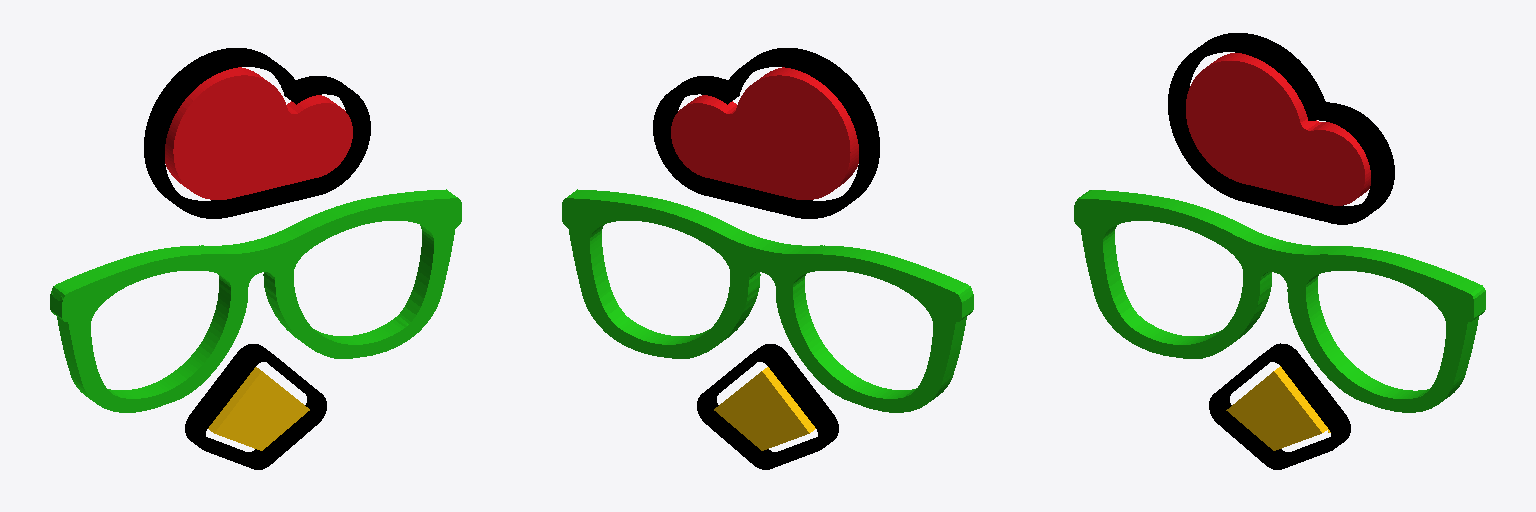
3 views of the same model, side by side, from view 1: azimuth 30°, elevation 25°; view 2: azimuth 150°, elevation 25°; view 3: azimuth 330°, elevation 25° (orthographic).
Visible parts, largest first — view 1: Curve.006; view 2: Curve.006; view 3: Curve.006.
Boxes of the visible parts, <box> form: Curve.006: <box>50,48,461,469</box>; Curve.006: <box>562,48,973,469</box>; Curve.006: <box>1074,33,1485,469</box>.
Size of the model in its own units: 1.02 by 1.02 by 0.0527.
Materials: 1 (1 with a texture image).